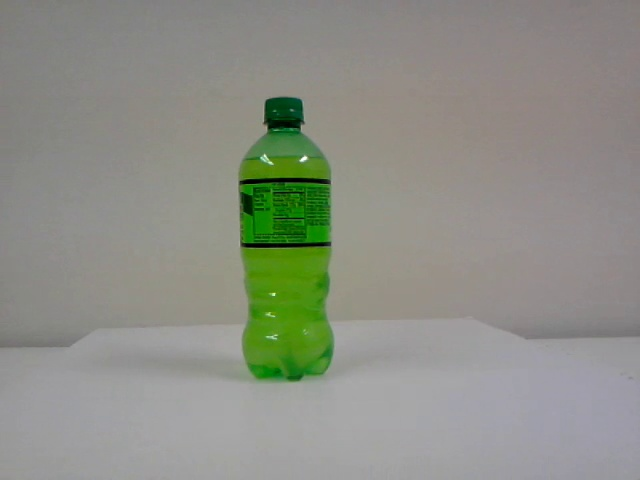botolplastik: (239, 98, 331, 379)
